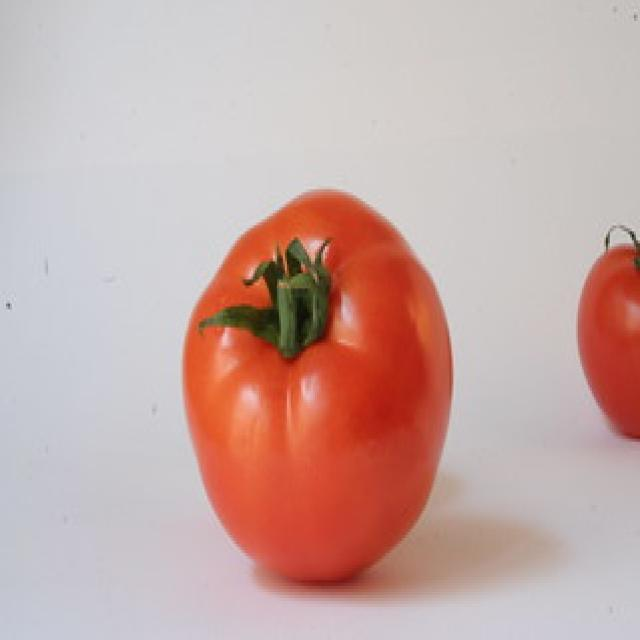Tomato: (175, 182, 469, 590)
